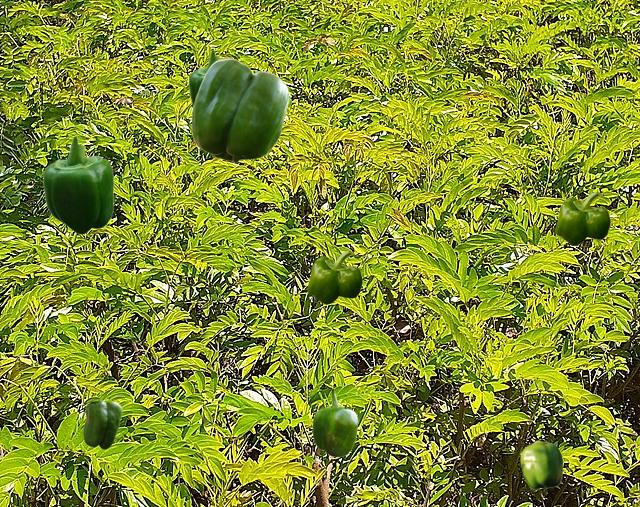bell_pepper: (191, 58, 288, 162), (42, 135, 113, 234), (312, 388, 357, 456), (307, 250, 361, 303), (555, 191, 609, 244), (520, 440, 562, 488), (83, 400, 121, 448), (188, 49, 220, 105)
